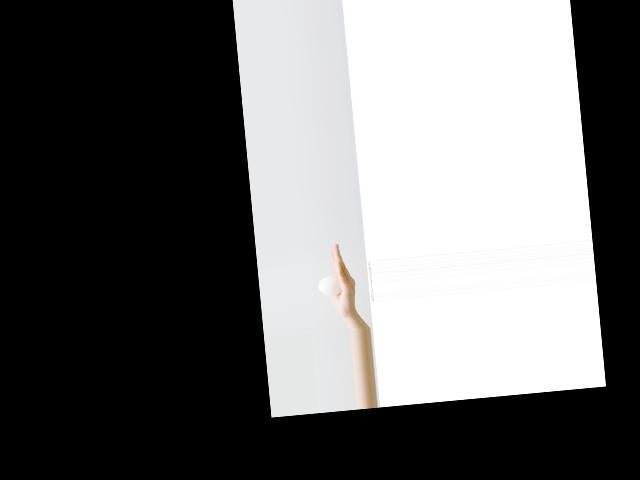egg: (317, 275, 342, 295)
